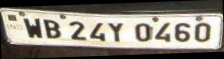character: (22, 17, 42, 38), (42, 18, 61, 39), (134, 22, 152, 42), (89, 22, 106, 42), (154, 22, 171, 42), (174, 22, 191, 42), (69, 20, 85, 40), (194, 22, 210, 42), (107, 21, 122, 42)
